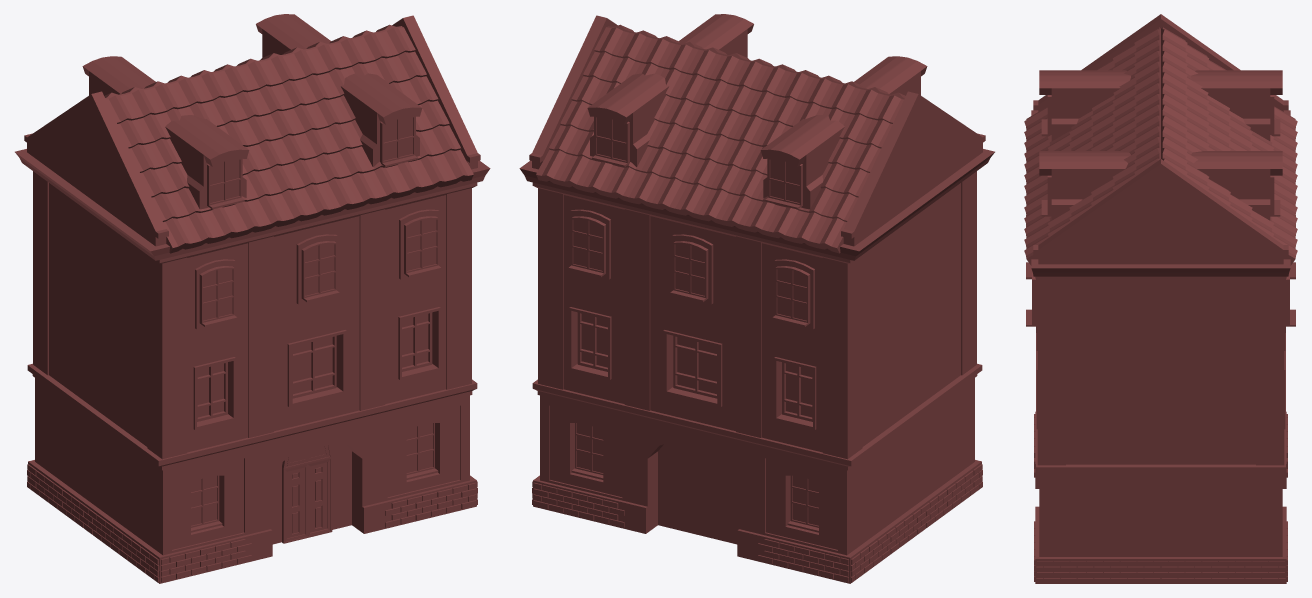
File: building1_small.glb
3 views of the same model, side by side, from view 1: azimuth 30°, elevation 25°; view 2: azimuth 150°, elevation 25°; view 3: azimuth 270°, elevation 25° (orthographic). The views are drawn at different scales.
Parts seen in each view (by area): view 1: Building1_Small_Plane.003; view 2: Building1_Small_Plane.003; view 3: Building1_Small_Plane.003.
Boxes of the visible parts, x1,y1,x2,y2 form: Building1_Small_Plane.003: [15, 14, 490, 583]; Building1_Small_Plane.003: [519, 14, 994, 583]; Building1_Small_Plane.003: [1024, 14, 1297, 583].
Size of the model in its own units: 2.4 by 2.99 by 1.76.
